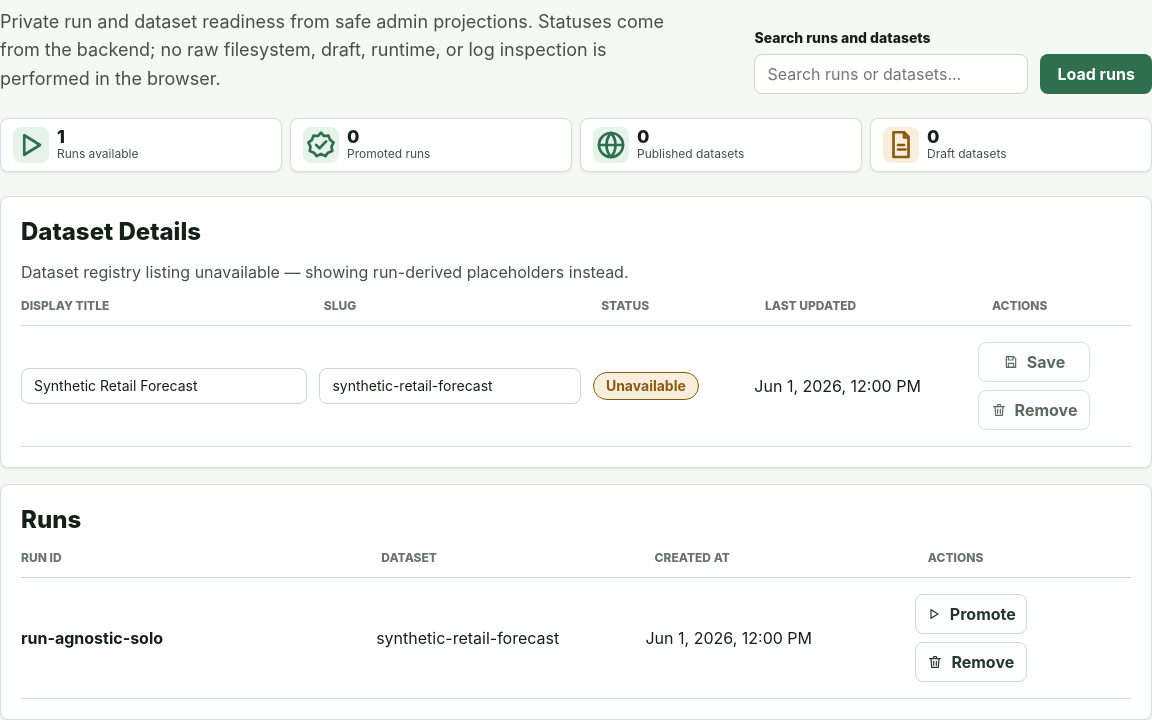
Scenario: DashboardPage › Runs row removal › shows a sanitized English error and keeps the row visible when removal fails
(page scrolled)
Expected: the button "Load runs" is shown, top-left (1040, 54), bottom-right (1151, 94)
Click the button "Remove" in the row of "synthetic-retail-forecast". click: click(971, 662)
box: top-left (915, 642), bottom-right (1027, 682)
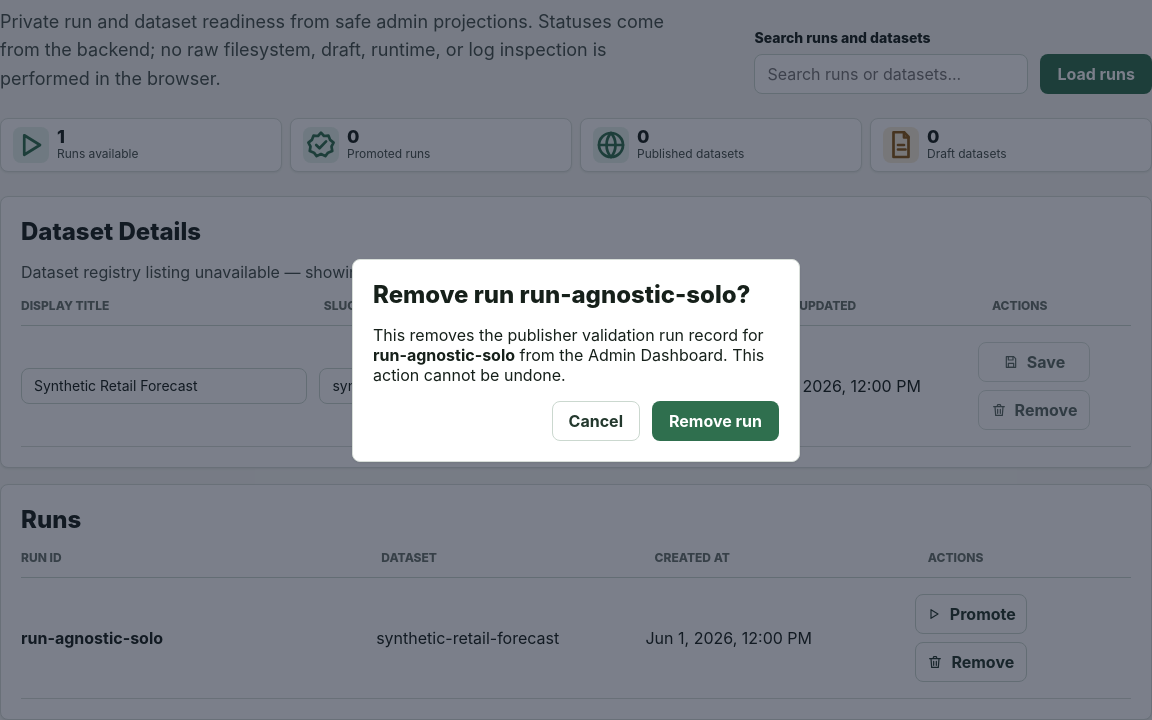
Click the button "Remove run". click: click(716, 420)
box: top-left (652, 400), bottom-right (779, 440)
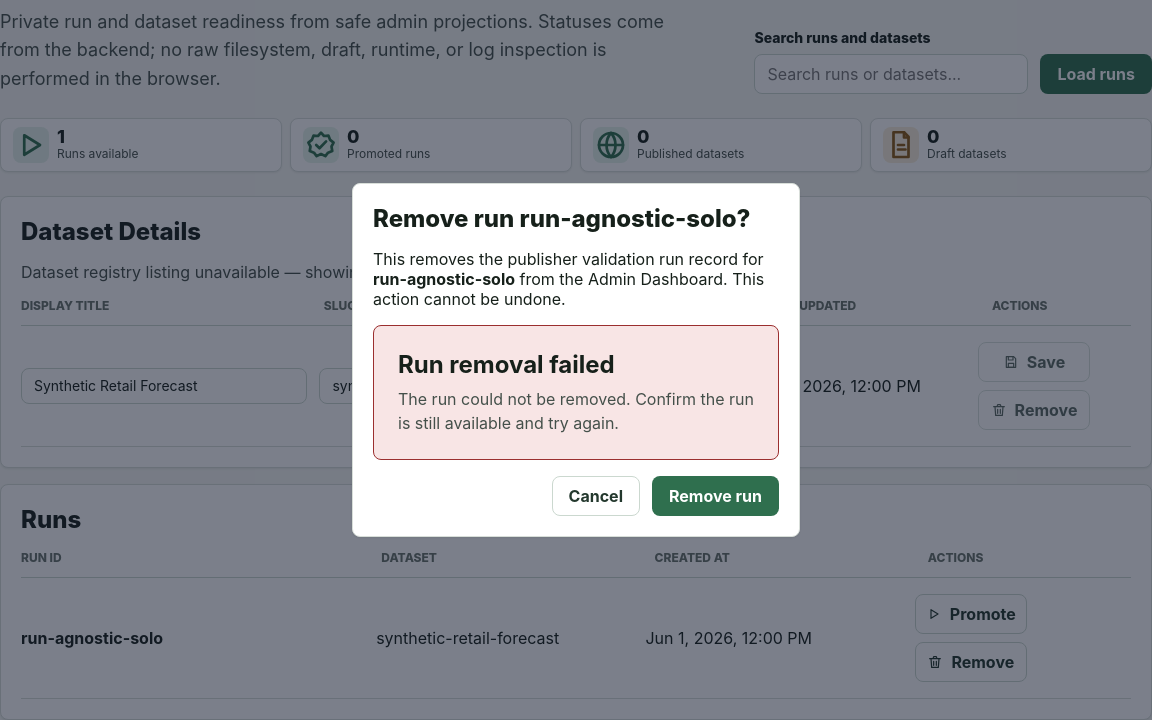
Expected: the text "run-agnostic-solo" in the row of "synthetic-retail-forecast" is shown, top-left (21, 628), bottom-right (163, 648)
Expected: the heading "Run removal failed" is shown, top-left (398, 350), bottom-right (615, 379)
